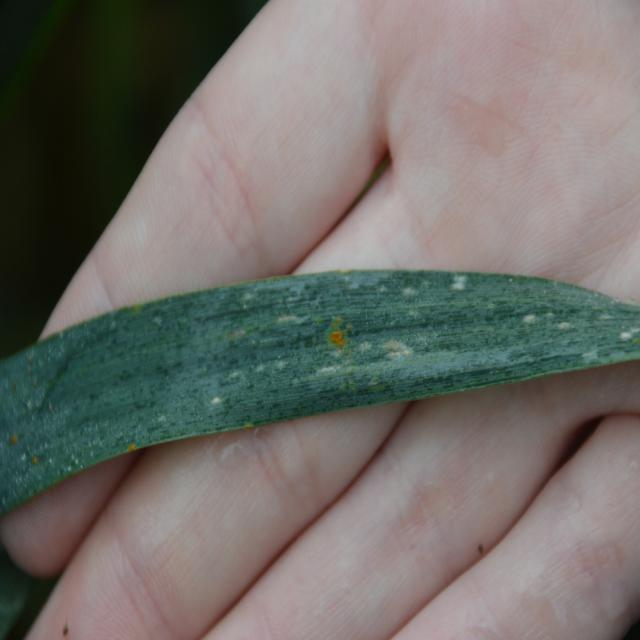wheat-powdery-mildew: (0, 269, 640, 524)
